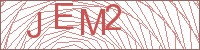2: (103, 3, 122, 32)
E: (53, 2, 75, 30)
J: (25, 11, 43, 38)
M: (79, 8, 107, 36)
